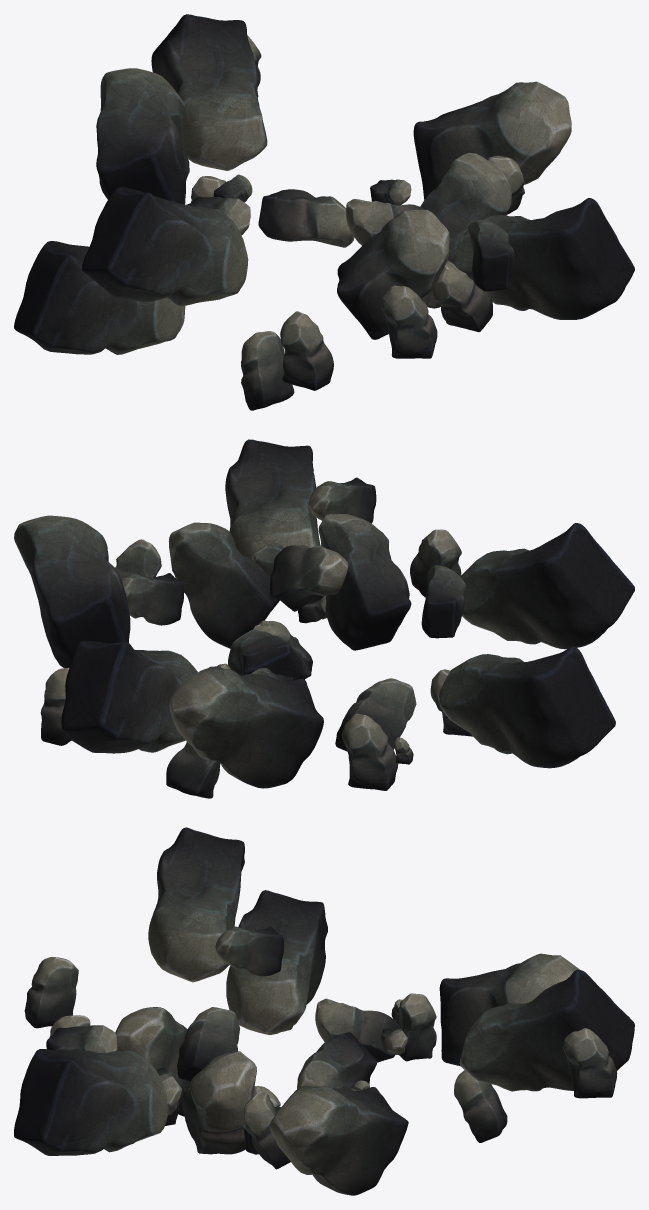
The model's file is rock_A.fbx.
3 views of the same model, one above another, from view 1: azimuth 30°, elevation 25°; view 2: azimuth 150°, elevation 25°; view 3: azimuth 270°, elevation 25° (orthographic). The views are drawn at different scales.
Parts seen in each view (by area): view 1: DecorRocks_LowPoly_B__31_.004, DecorRocks_LowPoly_B__31_.005, DecorRocks_LowPoly_B__31_.007, DecorRocks_LowPoly_B__31_.006, DecorRocks_LowPoly_B__36_.004, DecorRocks_LowPoly_B__36_.005, DecorRocks_LowPoly_B__28_.004, DecorRocks_LowPoly_B__28_.005, DecorRocks_LowPoly_B__35_.005, DecorRocks_LowPoly_B__33_.006, DecorRocks_LowPoly_B__32_.007, DecorRocks_LowPoly_B__33_.004 (+7 smaller); view 2: DecorRocks_LowPoly_B__31_.006, DecorRocks_LowPoly_B__31_.004, DecorRocks_LowPoly_B__36_.004, DecorRocks_LowPoly_B__31_.007, DecorRocks_LowPoly_B__36_.005, DecorRocks_LowPoly_B__31_.005, DecorRocks_LowPoly_B__28_.005, DecorRocks_LowPoly_B__28_.004, DecorRocks_LowPoly_B__27_.004, DecorRocks_LowPoly_B__33_.007, DecorRocks_LowPoly_B__27_.005, DecorRocks_LowPoly_B__29_.005 (+11 smaller); view 3: DecorRocks_LowPoly_B__31_.005, DecorRocks_LowPoly_B__31_.007, DecorRocks_LowPoly_B__31_.004, DecorRocks_LowPoly_B__36_.005, DecorRocks_LowPoly_B__31_.006, DecorRocks_LowPoly_B__36_.004, DecorRocks_LowPoly_B__28_.005, DecorRocks_LowPoly_B__28_.004, DecorRocks_LowPoly_B__35_.005, DecorRocks_LowPoly_B__27_.004, DecorRocks_LowPoly_B__33_.006, DecorRocks_LowPoly_B__33_.005 (+8 smaller).
Boxes of the visible parts, bbox=[...] form: DecorRocks_LowPoly_B__31_.004: bbox=[81, 186, 248, 306]; DecorRocks_LowPoly_B__31_.005: bbox=[451, 198, 634, 319]; DecorRocks_LowPoly_B__31_.007: bbox=[151, 14, 267, 170]; DecorRocks_LowPoly_B__31_.006: bbox=[14, 241, 185, 354]; DecorRocks_LowPoly_B__36_.004: bbox=[96, 68, 189, 204]; DecorRocks_LowPoly_B__36_.005: bbox=[413, 81, 571, 199]; DecorRocks_LowPoly_B__28_.004: bbox=[337, 209, 449, 339]; DecorRocks_LowPoly_B__28_.005: bbox=[420, 152, 511, 238]; DecorRocks_LowPoly_B__35_.005: bbox=[258, 189, 354, 247]; DecorRocks_LowPoly_B__33_.006: bbox=[280, 311, 333, 390]; DecorRocks_LowPoly_B__32_.007: bbox=[241, 331, 294, 410]; DecorRocks_LowPoly_B__33_.004: bbox=[381, 285, 437, 358]; DecorRocks_LowPoly_B__31_.006: bbox=[438, 646, 615, 768]; DecorRocks_LowPoly_B__31_.004: bbox=[461, 523, 634, 649]; DecorRocks_LowPoly_B__36_.004: bbox=[169, 666, 323, 788]; DecorRocks_LowPoly_B__31_.007: bbox=[61, 640, 197, 753]; DecorRocks_LowPoly_B__36_.005: bbox=[14, 515, 130, 667]; DecorRocks_LowPoly_B__31_.005: bbox=[225, 439, 320, 559]; DecorRocks_LowPoly_B__28_.005: bbox=[168, 522, 279, 648]; DecorRocks_LowPoly_B__28_.004: bbox=[318, 514, 411, 650]; DecorRocks_LowPoly_B__27_.004: bbox=[270, 545, 348, 611]; DecorRocks_LowPoly_B__33_.007: bbox=[342, 713, 398, 790]; DecorRocks_LowPoly_B__27_.005: bbox=[335, 678, 416, 751]; DecorRocks_LowPoly_B__29_.005: bbox=[121, 573, 183, 625]; DecorRocks_LowPoly_B__31_.005: bbox=[14, 1049, 168, 1155]; DecorRocks_LowPoly_B__31_.007: bbox=[459, 969, 634, 1091]; DecorRocks_LowPoly_B__31_.004: bbox=[148, 827, 244, 982]; DecorRocks_LowPoly_B__36_.005: bbox=[269, 1085, 408, 1195]; DecorRocks_LowPoly_B__31_.006: bbox=[226, 890, 327, 1034]; DecorRocks_LowPoly_B__36_.004: bbox=[439, 953, 579, 1066]; DecorRocks_LowPoly_B__28_.005: bbox=[182, 1051, 256, 1154]; DecorRocks_LowPoly_B__28_.004: bbox=[115, 1007, 190, 1110]; DecorRocks_LowPoly_B__35_.005: bbox=[297, 1032, 376, 1090]; DecorRocks_LowPoly_B__27_.004: bbox=[177, 1007, 239, 1081]; DecorRocks_LowPoly_B__33_.006: bbox=[24, 956, 78, 1028]; DecorRocks_LowPoly_B__33_.005: bbox=[563, 1028, 617, 1098].
Bounding box in the file's own units: 152 × 61.58 × 150.
